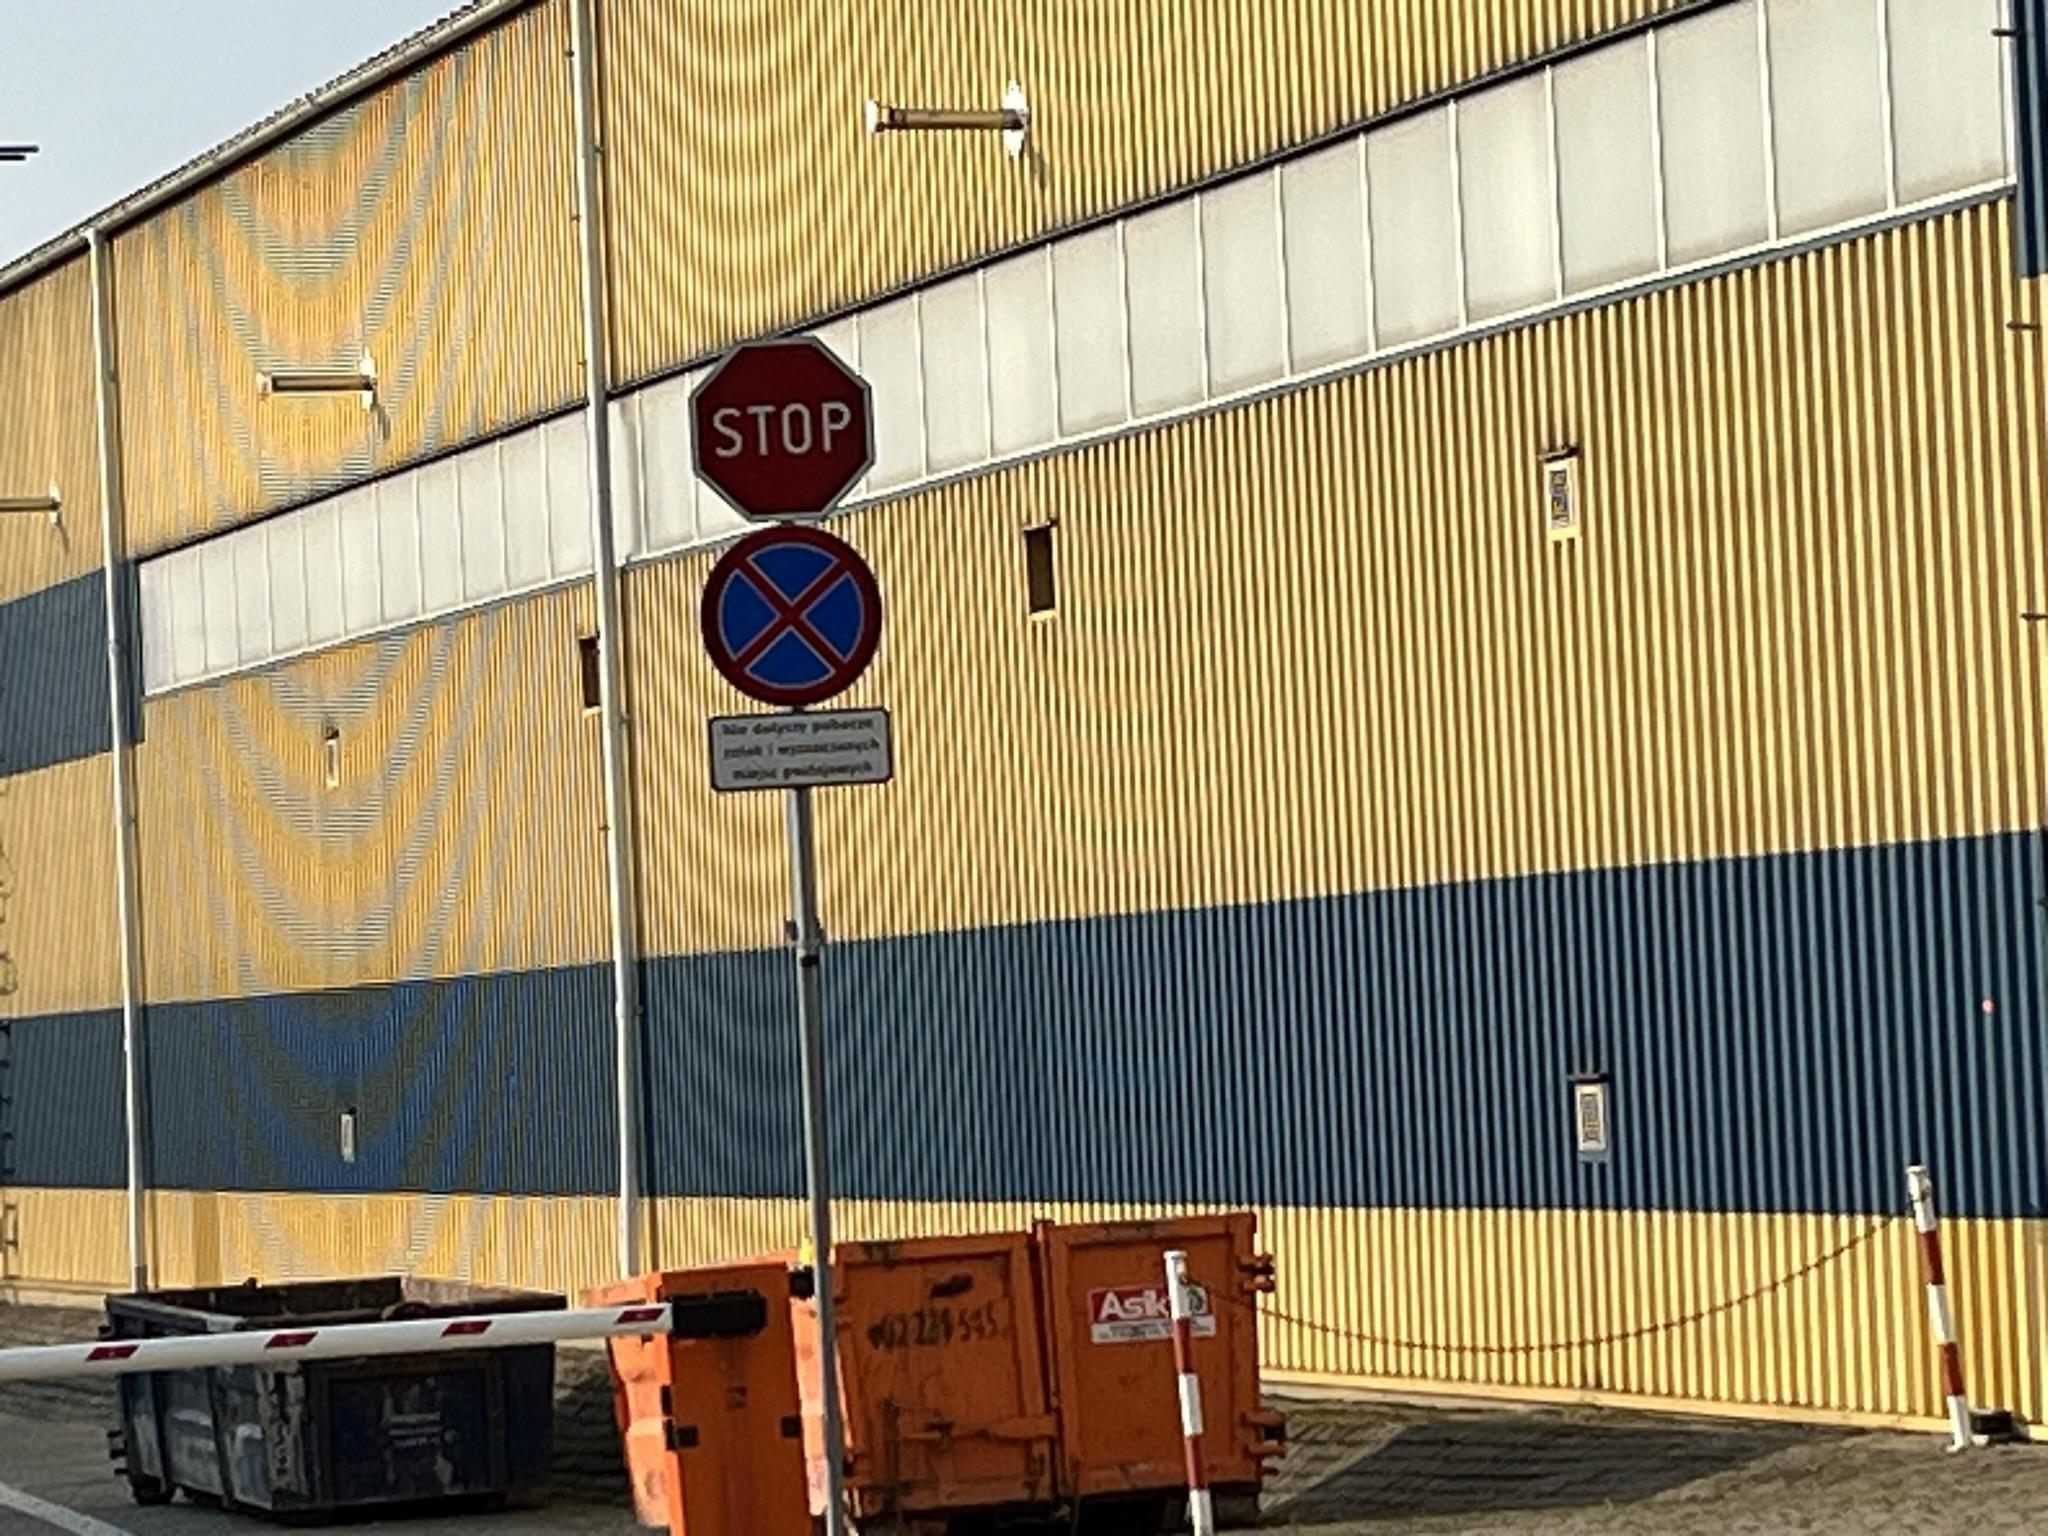other: (710, 713, 890, 779)
prohibitory: (687, 337, 876, 523), (700, 523, 884, 710)
